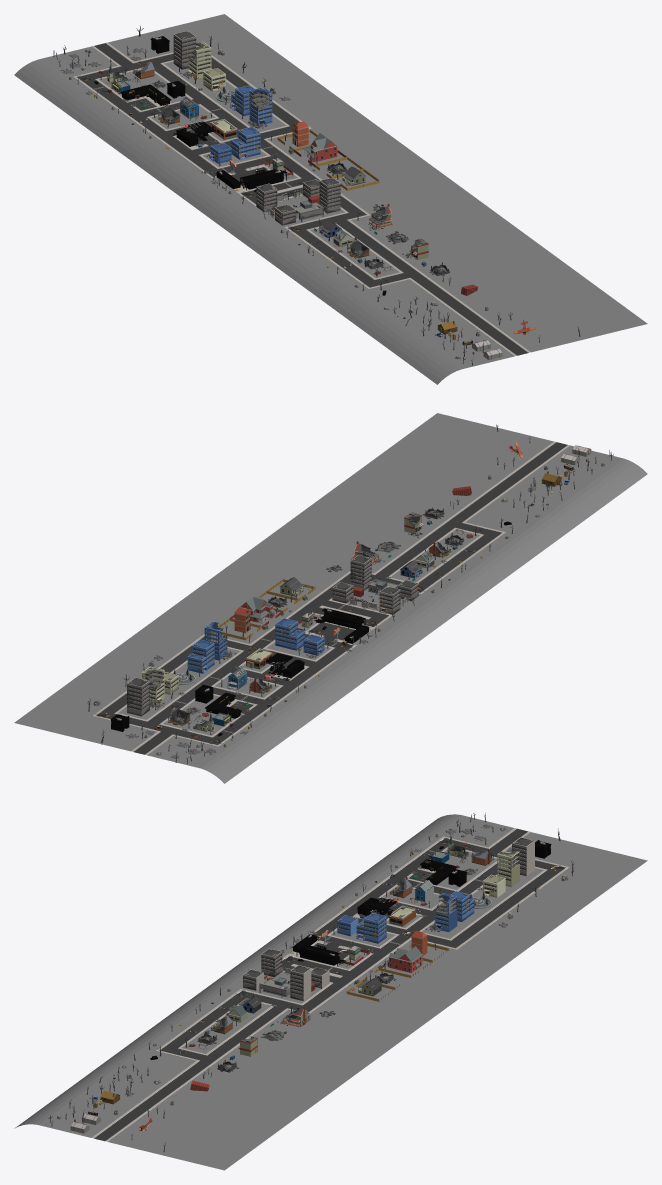
The model's file is _lvl_city_bg_2.glb.
3 renders of one model, top to bottom at view 1: azimuth 30°, elevation 25°; view 2: azimuth 150°, elevation 25°; view 3: azimuth 330°, elevation 25°, orthographic.
Parts seen in each view (by area): view 1: bg_ground_2, bg_near_plane_city, SA_Env_Road_Full_2_part_7, SA_Env_Road_Full_2_part_5, SA_Env_Road_Full_2_part_2, SA_Env_Road_Full_2_part_8, SA_Env_Road_Full_2_part_1, SA_Env_Road_Full_2_part_4, SA_Env_Road_Full_2_part_3, SA_Env_Road_Full_2_part_6, bg_ground_2_part_1, SA_Bld_Office_Damaged_02 (+12 smaller); view 2: bg_ground_2, bg_near_plane_city, SA_Env_Road_Full_2_part_7, SA_Env_Road_Full_2_part_5, SA_Env_Road_Full_2_part_2, SA_Env_Road_Full_2_part_8, SA_Bld_OfficeBlue_04 (×2), SA_Env_Road_Full_2_part_4, SA_Env_Road_Full_2_part_3, SA_Env_Road_Full_2_part_1, SA_Env_Road_Full_2_part_6, bg_ground_2_part_1 (+11 smaller); view 3: bg_ground_2, bg_near_plane_city, SA_Env_Road_Full_2_part_7, SA_Env_Road_Full_2_part_5, SA_Env_Road_Full_2_part_8, SA_Env_Road_Full_2_part_2, SA_Env_Road_Full_2_part_3, SA_Env_Road_Full_2_part_1, SA_Env_Road_Full_2_part_6, SA_Env_Road_Full_2_part_4, bg_ground_2_part_1, bg_ground_2_part_8 (+12 smaller).
Part boxes in pixels (x1,y1,x2,y2): bg_ground_2: (38, 14, 647, 369); bg_near_plane_city: (14, 59, 460, 384); SA_Env_Road_Full_2_part_7: (293, 220, 424, 289); SA_Env_Road_Full_2_part_5: (184, 139, 322, 200); SA_Env_Road_Full_2_part_2: (73, 63, 202, 124); SA_Env_Road_Full_2_part_8: (409, 274, 530, 356); SA_Env_Road_Full_2_part_1: (133, 46, 253, 100); SA_Env_Road_Full_2_part_4: (139, 117, 237, 157); SA_Env_Road_Full_2_part_3: (199, 86, 311, 140); SA_Env_Road_Full_2_part_6: (248, 187, 370, 233); bg_ground_2_part_1: (164, 61, 285, 131); SA_Bld_Office_Damaged_02: (248, 87, 272, 128); bg_ground_2: (14, 413, 623, 768); bg_near_plane_city: (201, 458, 647, 783); SA_Env_Road_Full_2_part_7: (374, 519, 505, 587); SA_Env_Road_Full_2_part_5: (250, 602, 384, 665); SA_Env_Road_Full_2_part_2: (159, 686, 283, 746); SA_Env_Road_Full_2_part_8: (448, 441, 570, 522); SA_Bld_OfficeBlue_04 (×2): (187, 618, 305, 673); SA_Env_Road_Full_2_part_4: (230, 648, 329, 698); SA_Env_Road_Full_2_part_3: (158, 634, 261, 687); SA_Env_Road_Full_2_part_1: (92, 685, 199, 731); SA_Env_Road_Full_2_part_6: (308, 571, 430, 620); bg_ground_2_part_1: (118, 648, 240, 719); bg_ground_2: (38, 815, 647, 1170); bg_near_plane_city: (14, 814, 460, 1128); SA_Env_Road_Full_2_part_7: (156, 996, 287, 1063); SA_Env_Road_Full_2_part_5: (282, 918, 411, 981); SA_Env_Road_Full_2_part_8: (91, 1060, 213, 1141); SA_Env_Road_Full_2_part_2: (378, 836, 501, 894); SA_Env_Road_Full_2_part_3: (400, 901, 514, 949); SA_Env_Road_Full_2_part_1: (457, 851, 569, 906); SA_Env_Road_Full_2_part_6: (231, 964, 353, 1013); SA_Env_Road_Full_2_part_4: (332, 884, 431, 934); bg_ground_2_part_1: (422, 868, 543, 938); bg_ground_2_part_8: (182, 1002, 271, 1053).
Bounding box in the file's own units: 129 × 23.45 × 450.
1 material, 1 textured.
